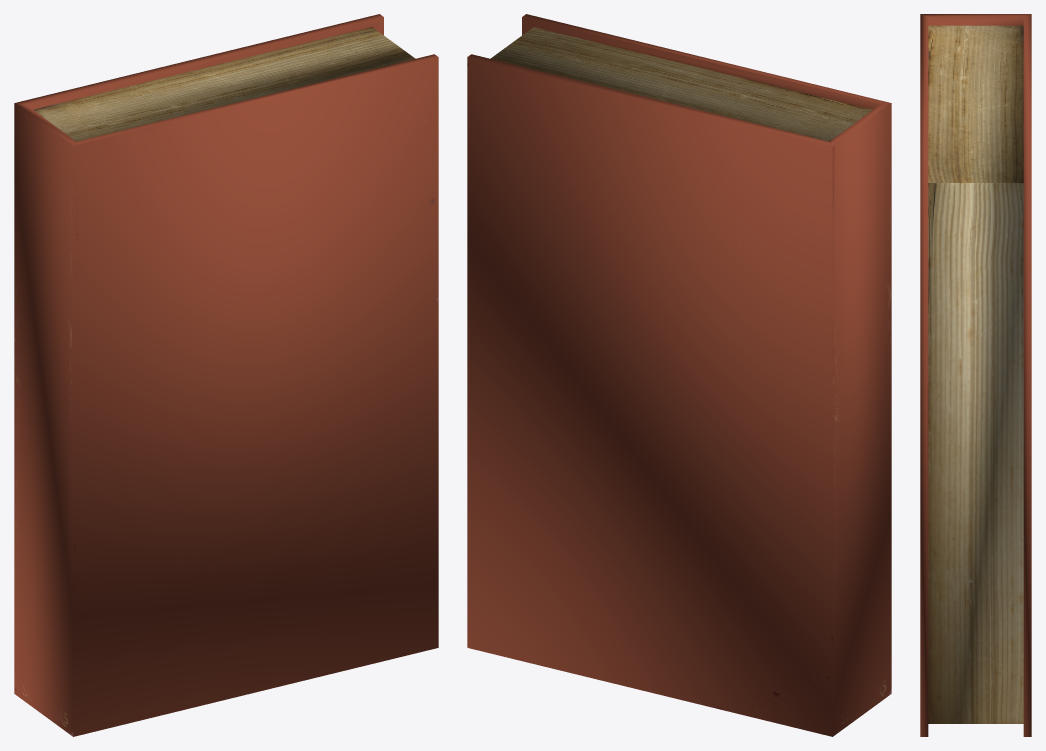
Rendered from libro.glb.
3 views of the same model, side by side, from view 1: azimuth 30°, elevation 25°; view 2: azimuth 150°, elevation 25°; view 3: azimuth 270°, elevation 25° (orthographic). The views are drawn at different scales.
Parts seen in each view (by area): view 1: The Cavalier.001; view 2: The Cavalier.001; view 3: The Cavalier.001.
Part boxes in pixels (bbox=[...]): The Cavalier.001: bbox=[14, 14, 438, 736]; The Cavalier.001: bbox=[467, 14, 891, 736]; The Cavalier.001: bbox=[920, 14, 1031, 736].
Bounding box in the file's own units: 1.18 × 1.83 × 0.3312.
Materials: 1 (1 with a texture image).
